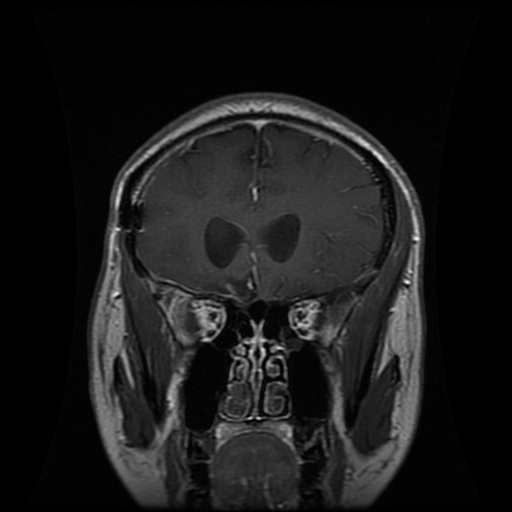glioma: (219, 270, 261, 303)
